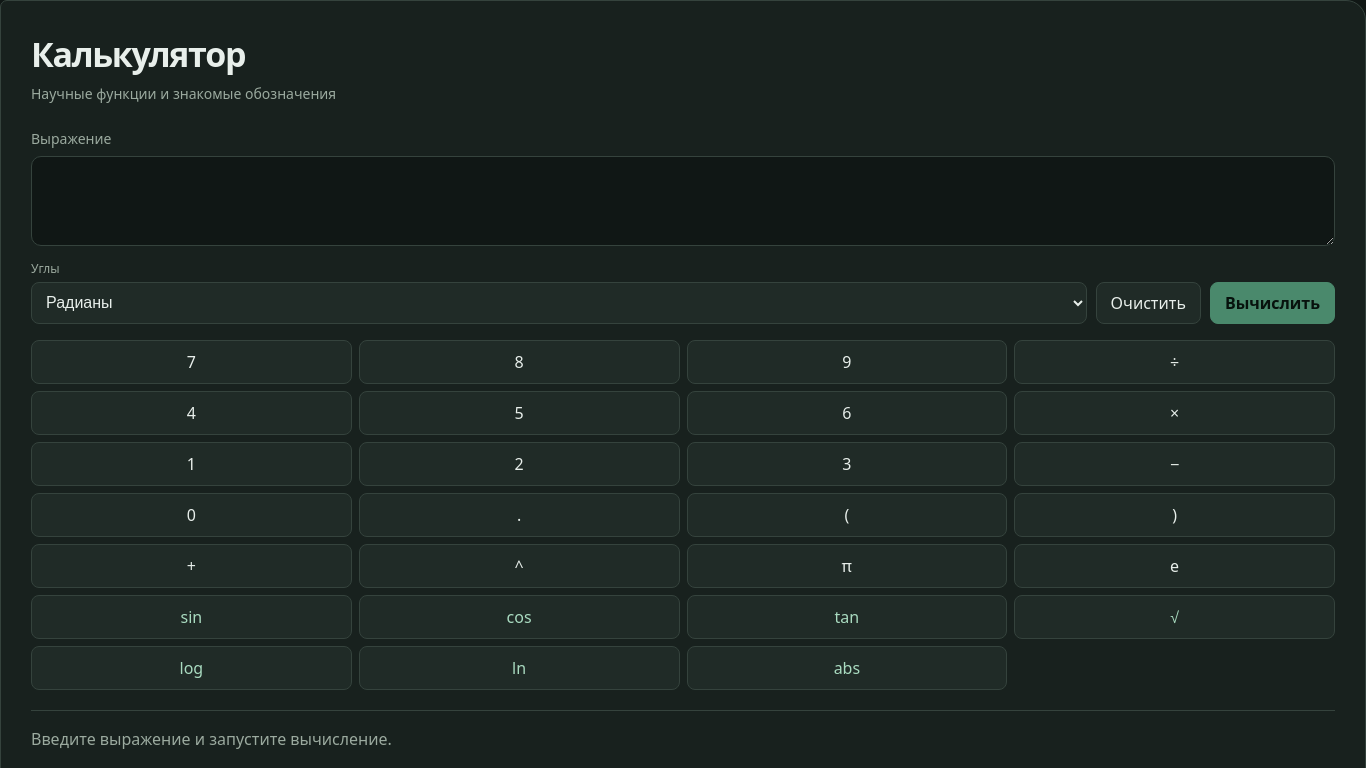
Test: CalculatorView › formats approximate values without exposing floating-point noise
This screenshot has width=1366, height=768.
Type "0.1+0.2" into the text box named "математическое выражение" at {"x": 683, "y": 201}, box [31, 156, 1335, 246]
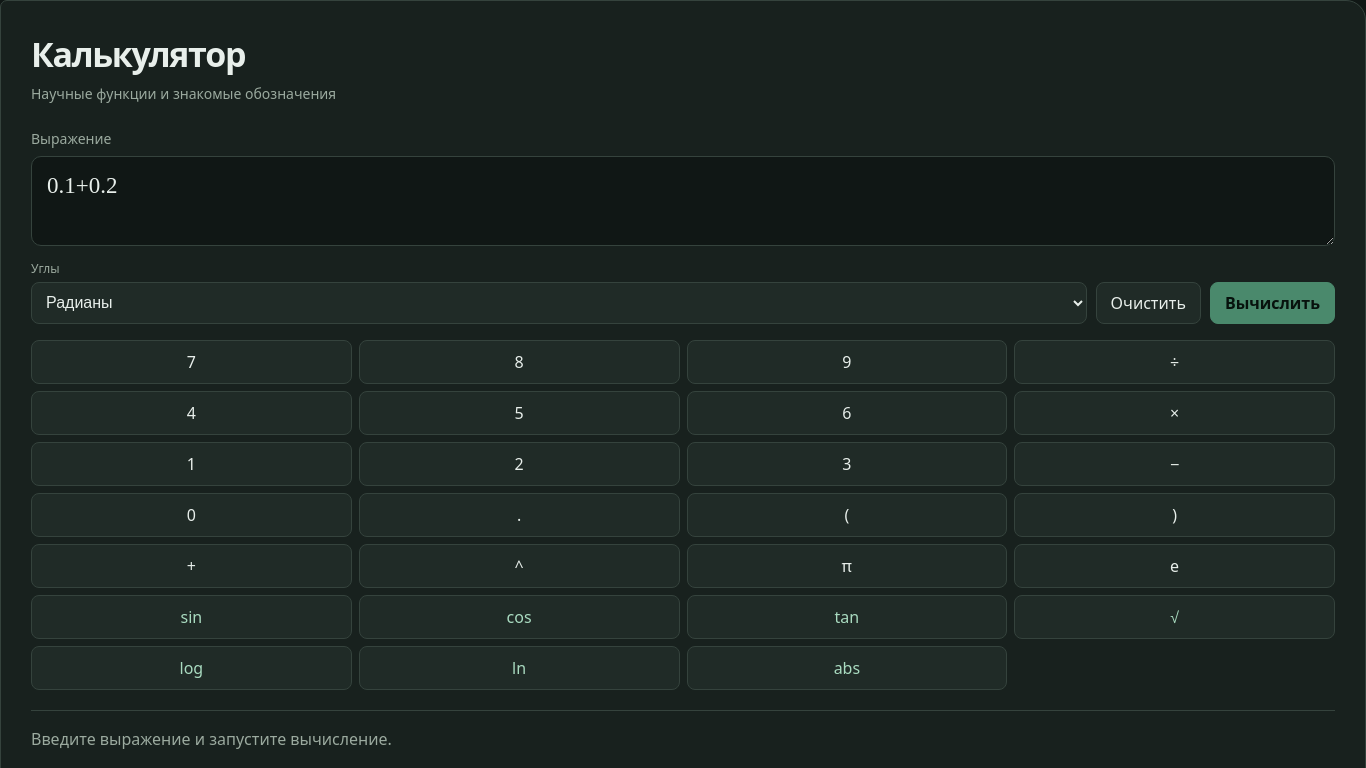
Click the button "Вычислить" at {"x": 1272, "y": 303}, box [1210, 282, 1335, 324]
(page scrolled)
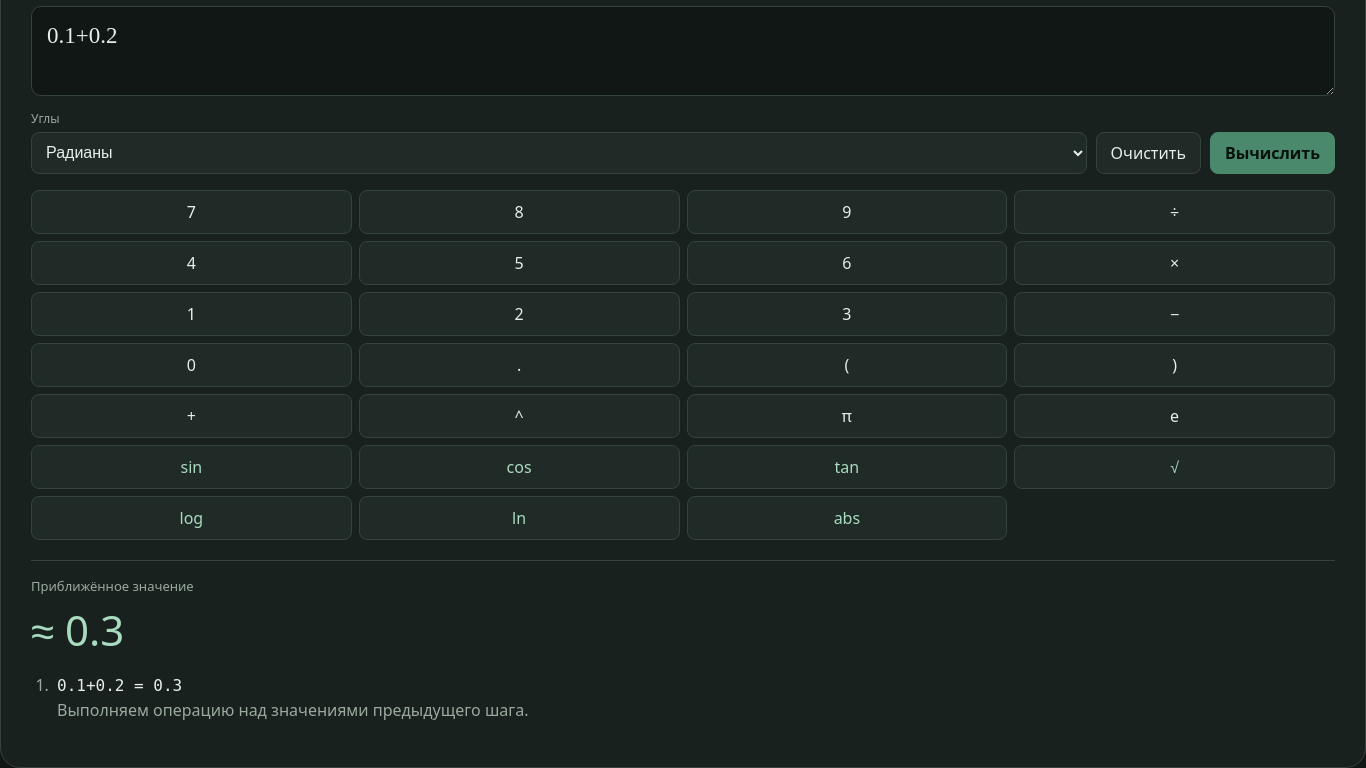
Expected: the text "≈ 0.3" is shown, [31, 601, 124, 658]
